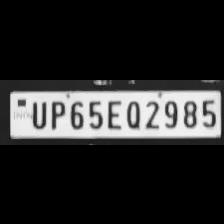2: (142, 97, 160, 128)
5: (198, 95, 218, 127), (85, 97, 103, 128)
6: (66, 98, 84, 130)
8: (180, 96, 198, 128)
9: (160, 97, 178, 128)
E: (104, 97, 120, 128)
P: (46, 98, 66, 128)
Q: (122, 97, 142, 128)
U: (27, 98, 47, 128)
